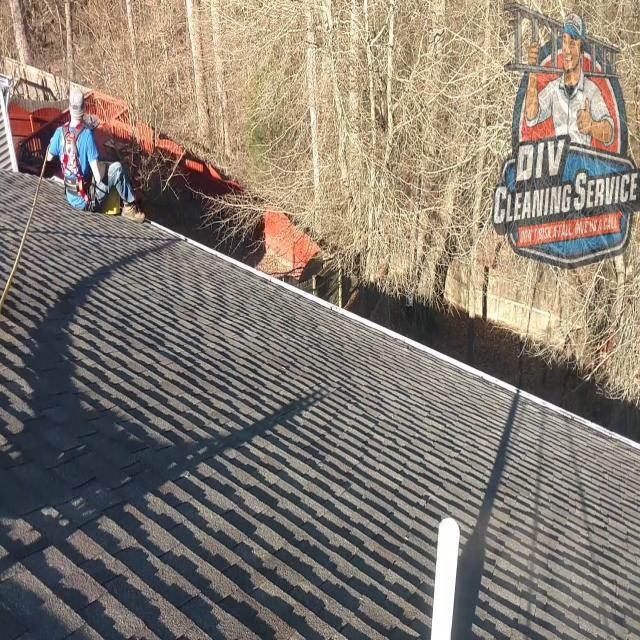belt: (58, 118, 97, 214)
